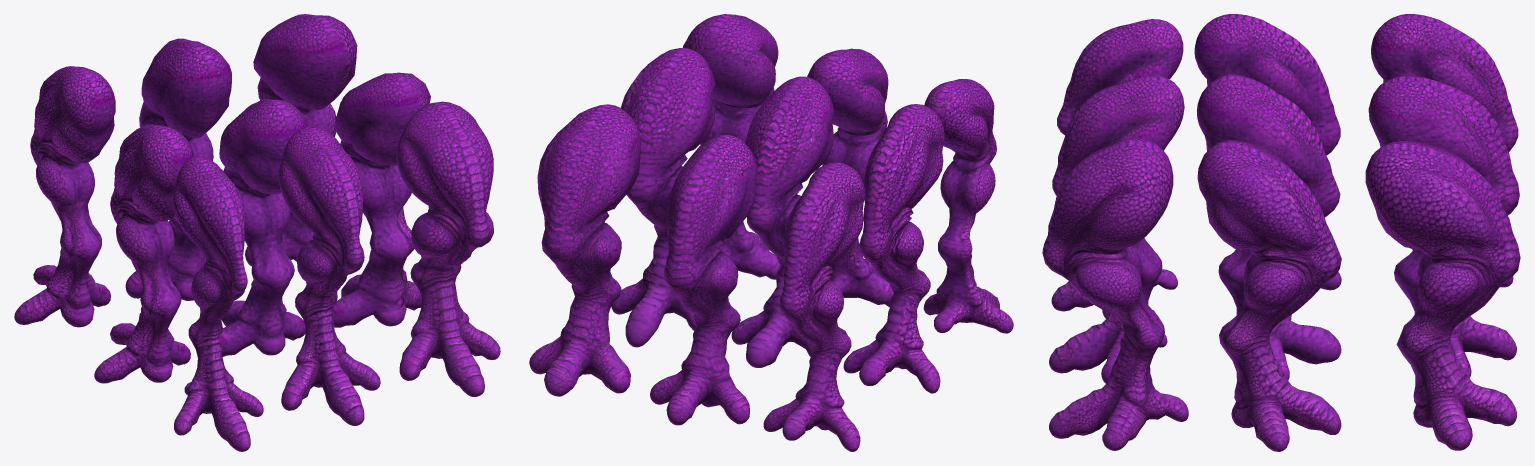
Rendered from biped_legs.glb.
3 views of the same model, side by side, from view 1: azimuth 30°, elevation 25°; view 2: azimuth 150°, elevation 25°; view 3: azimuth 270°, elevation 25° (orthographic). The views are drawn at different scales.
Parts seen in each view (by area): view 1: tripo_node_4d0fdc1a-2ef5-43d5-b7e5-c7810b0713d5; view 2: tripo_node_4d0fdc1a-2ef5-43d5-b7e5-c7810b0713d5; view 3: tripo_node_4d0fdc1a-2ef5-43d5-b7e5-c7810b0713d5.
Part boxes in pixels (x1,y1,x2,y2): tripo_node_4d0fdc1a-2ef5-43d5-b7e5-c7810b0713d5: (14, 14, 500, 451); tripo_node_4d0fdc1a-2ef5-43d5-b7e5-c7810b0713d5: (529, 14, 1013, 451); tripo_node_4d0fdc1a-2ef5-43d5-b7e5-c7810b0713d5: (1042, 14, 1520, 451).
Bounding box in the file's own units: 0.8774 × 0.6821 × 0.9995.
Materials: 1 (1 with a texture image).
